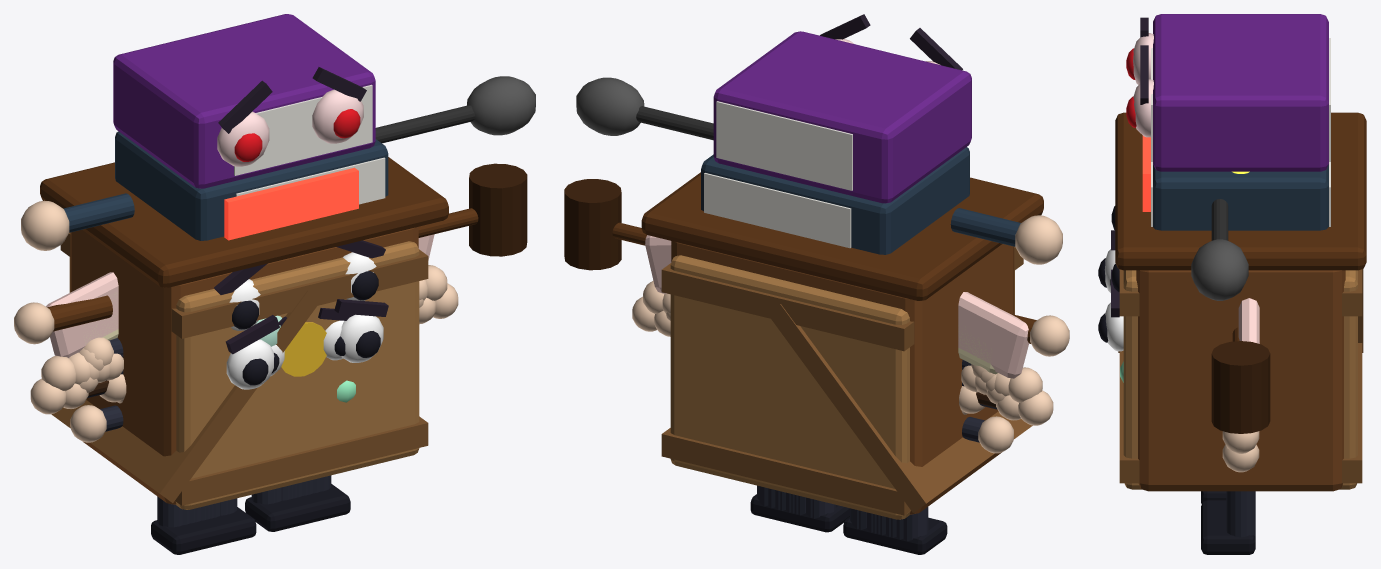
The model's file is enemies.glb.
The picture shows the model from 3 angles, left to right: view 1: azimuth 30°, elevation 25°; view 2: azimuth 150°, elevation 25°; view 3: azimuth 270°, elevation 25°; orthographic projection.
Parts seen in each view (by area): view 1: e_crate.body, e_gukgam.body, e_council.body, e_council.armR, e_gukgam.armR, e_gukgam.armL, e_council.armL, e_bomb.wingL, e_flask.body, e_council.legL, e_phone.armL, e_magnifier.legR (+5 smaller); view 2: e_crate.body, e_gukgam.body, e_council.body, e_council.armR, e_gukgam.armR, e_bomb.wingL, e_gukgam.armL, e_council.legL, e_council.armL, e_phone.armL, e_boss_small.armL, e_magnifier.legR (+2 smaller); view 3: e_council.body, e_gukgam.body, e_crate.body, e_council.armR, e_gukgam.armR, e_council.legR, e_bomb.wingR, e_phone.armR, e_boss_small.armR.
Part boxes in pixels (left/top/right/bottom): e_crate.body: left=51, top=232, right=428, bottom=509; e_gukgam.body: left=113, top=14, right=388, bottom=240; e_council.body: left=40, top=157, right=448, bottom=504; e_council.armR: left=418, top=163, right=527, bottom=256; e_gukgam.armR: left=375, top=76, right=535, bottom=143; e_gukgam.armL: left=21, top=193, right=134, bottom=250; e_council.armL: left=14, top=295, right=112, bottom=344; e_bomb.wingL: left=46, top=272, right=118, bottom=357; e_flask.body: left=256, top=308, right=355, bottom=402; e_council.legL: left=151, top=496, right=202, bottom=554; e_phone.armL: left=70, top=405, right=123, bottom=442; e_magnifier.legR: left=245, top=489, right=295, bottom=531; e_crate.body: left=661, top=246, right=1032, bottom=519; e_gukgam.body: left=701, top=14, right=971, bottom=254; e_council.body: left=641, top=172, right=1043, bottom=514; e_council.armR: left=564, top=179, right=646, bottom=270; e_gukgam.armR: left=576, top=77, right=713, bottom=140; e_bomb.wingL: left=958, top=292, right=1028, bottom=378; e_gukgam.armL: left=950, top=208, right=1062, bottom=264; e_council.legL: left=897, top=507, right=947, bottom=554; e_council.armL: left=1010, top=313, right=1069, bottom=356; e_phone.armL: left=962, top=416, right=1013, bottom=453; e_boss_small.armL: left=976, top=390, right=1053, bottom=425; e_magnifier.legR: left=807, top=499, right=849, bottom=532; e_council.body: left=1111, top=112, right=1366, bottom=491; e_gukgam.body: left=1126, top=14, right=1330, bottom=230; e_crate.body: left=1098, top=230, right=1363, bottom=489; e_council.armR: left=1211, top=327, right=1270, bottom=433; e_gukgam.armR: left=1191, top=199, right=1248, bottom=300; e_council.legR: left=1201, top=491, right=1255, bottom=554; e_bomb.wingR: left=1238, top=298, right=1259, bottom=343; e_phone.armR: left=1222, top=444, right=1259, bottom=472; e_boss_small.armR: left=1222, top=431, right=1259, bottom=453.
Bounding box in the file's own units: 1.4 × 1.27 × 0.6402.
